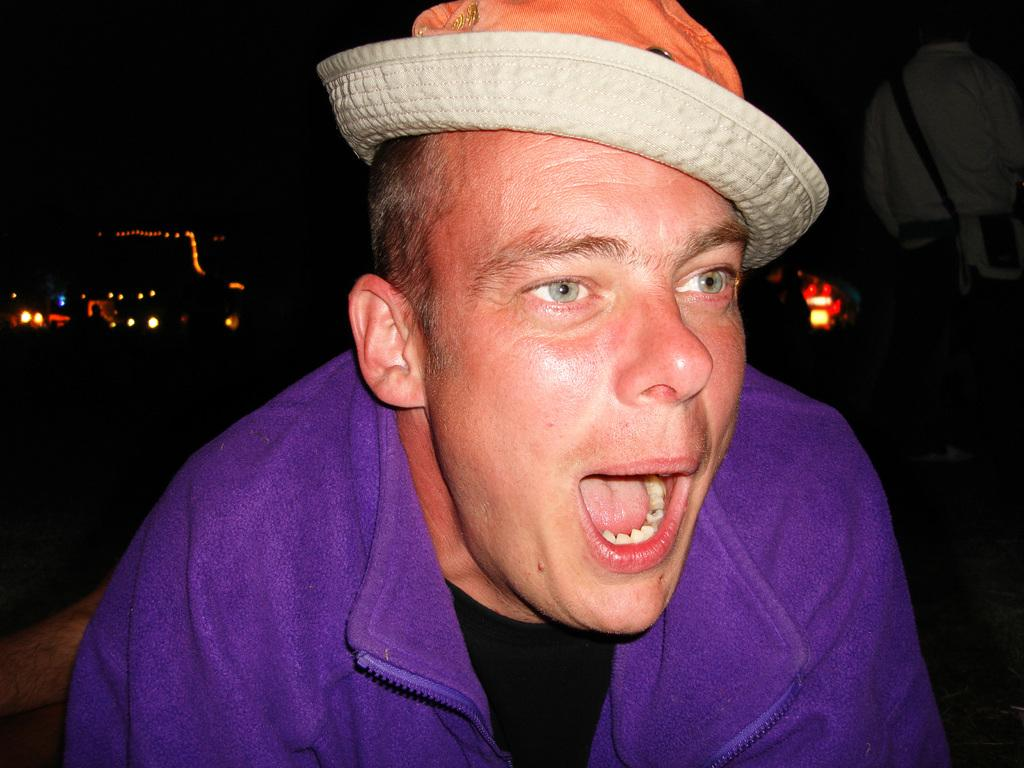Hat: (317, 0, 830, 273)
